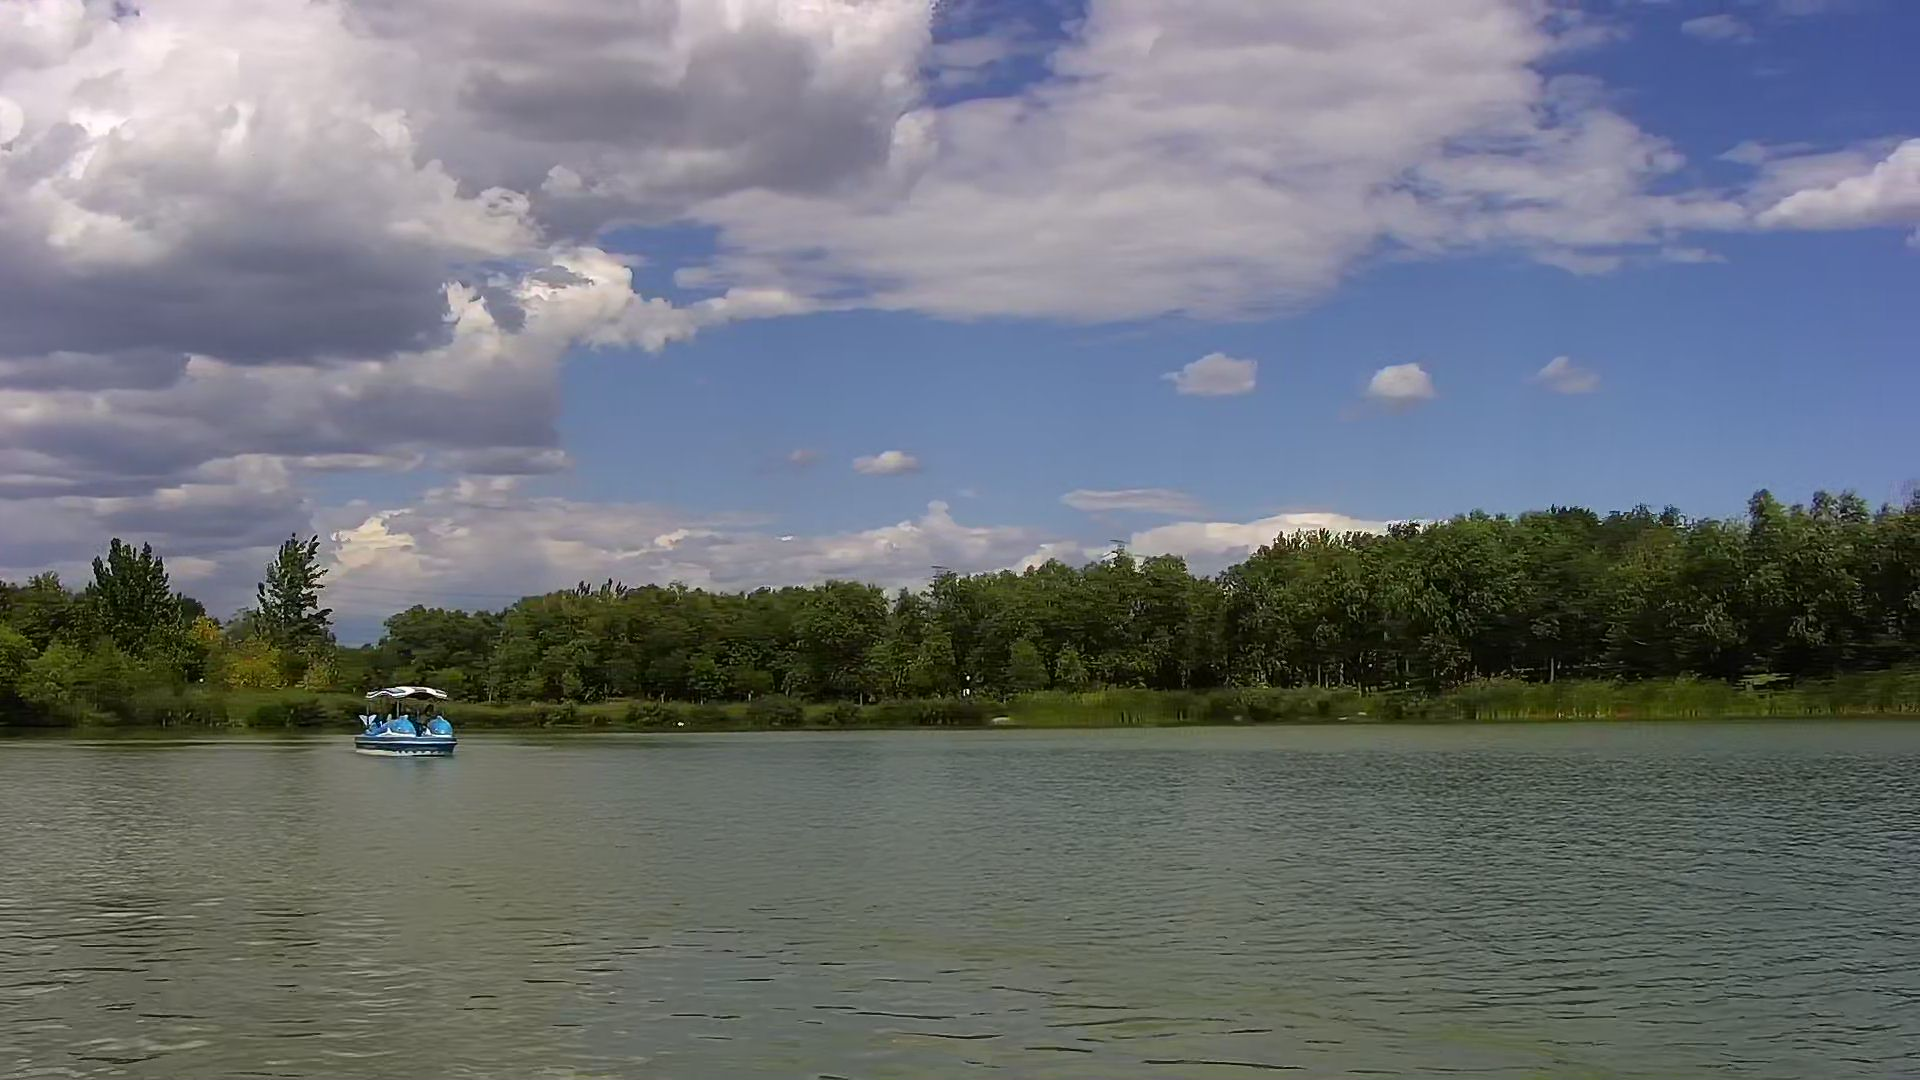boat: (355, 683, 450, 767)
